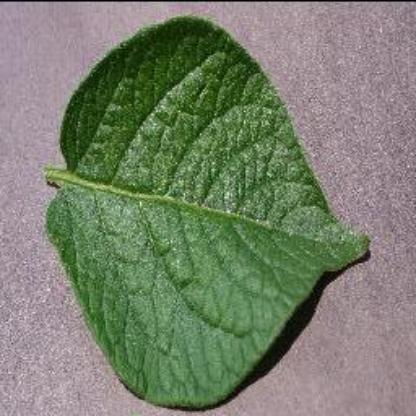Healthy-plant: (24, 9, 388, 411)
